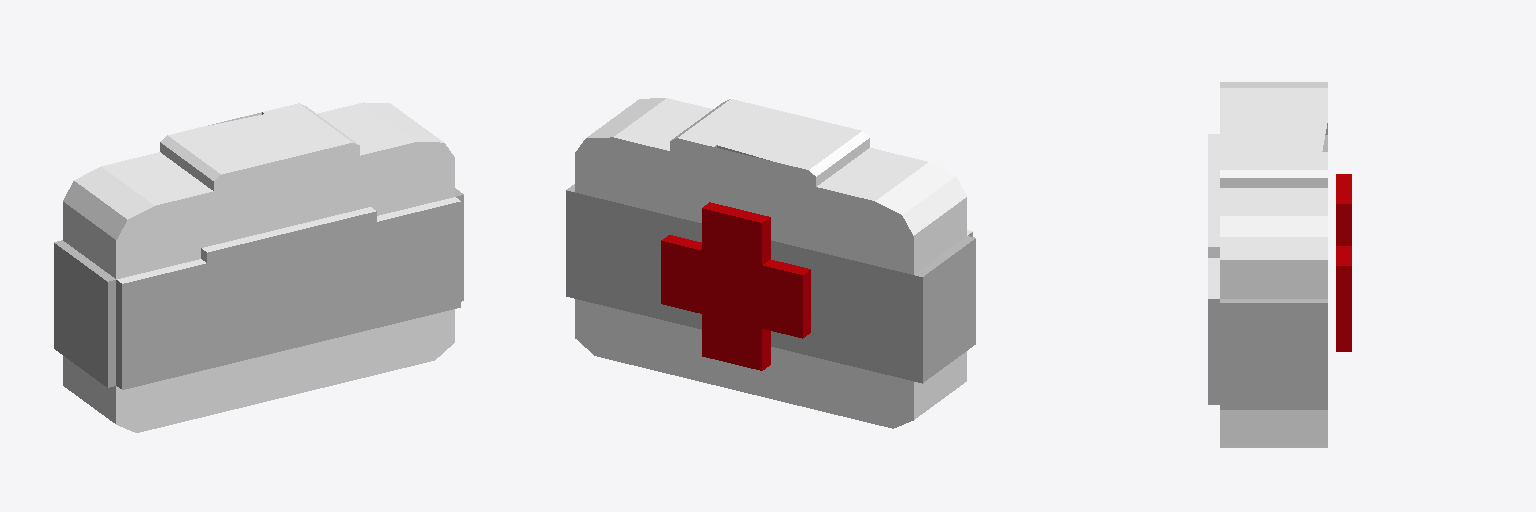
Rendered from medkit.obj.
The picture shows the model from 3 angles: view 1: azimuth 30°, elevation 25°; view 2: azimuth 150°, elevation 25°; view 3: azimuth 270°, elevation 25°; orthographic projection.
Parts seen in each view (by area): view 1: Cube; view 2: Cube, Plane.005; view 3: Cube, Plane.005.
Boxes of the visible parts, box(x1,y1,x2,y2) form: Cube: box(54, 102, 463, 432); Cube: box(566, 98, 975, 428); Plane.005: box(661, 202, 810, 370); Cube: box(1208, 82, 1327, 447); Plane.005: box(1336, 174, 1351, 351).
Bounding box in the file's own units: 3.2 × 2.04 × 1.12.